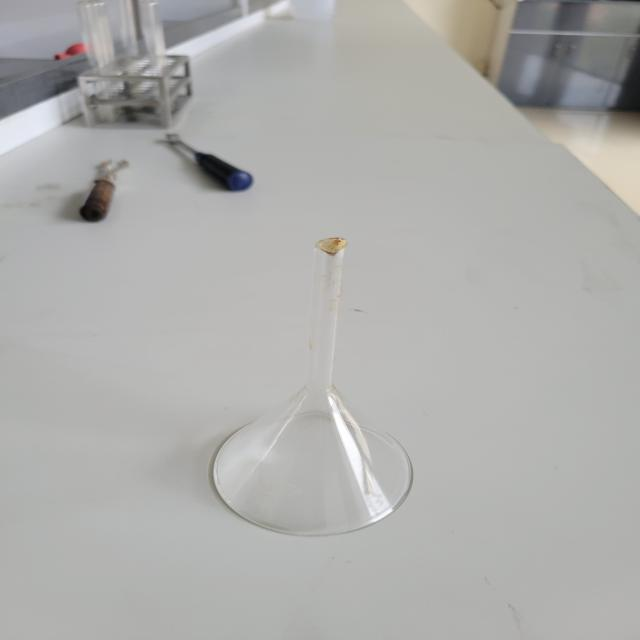Funnel: (165, 197, 474, 546)
